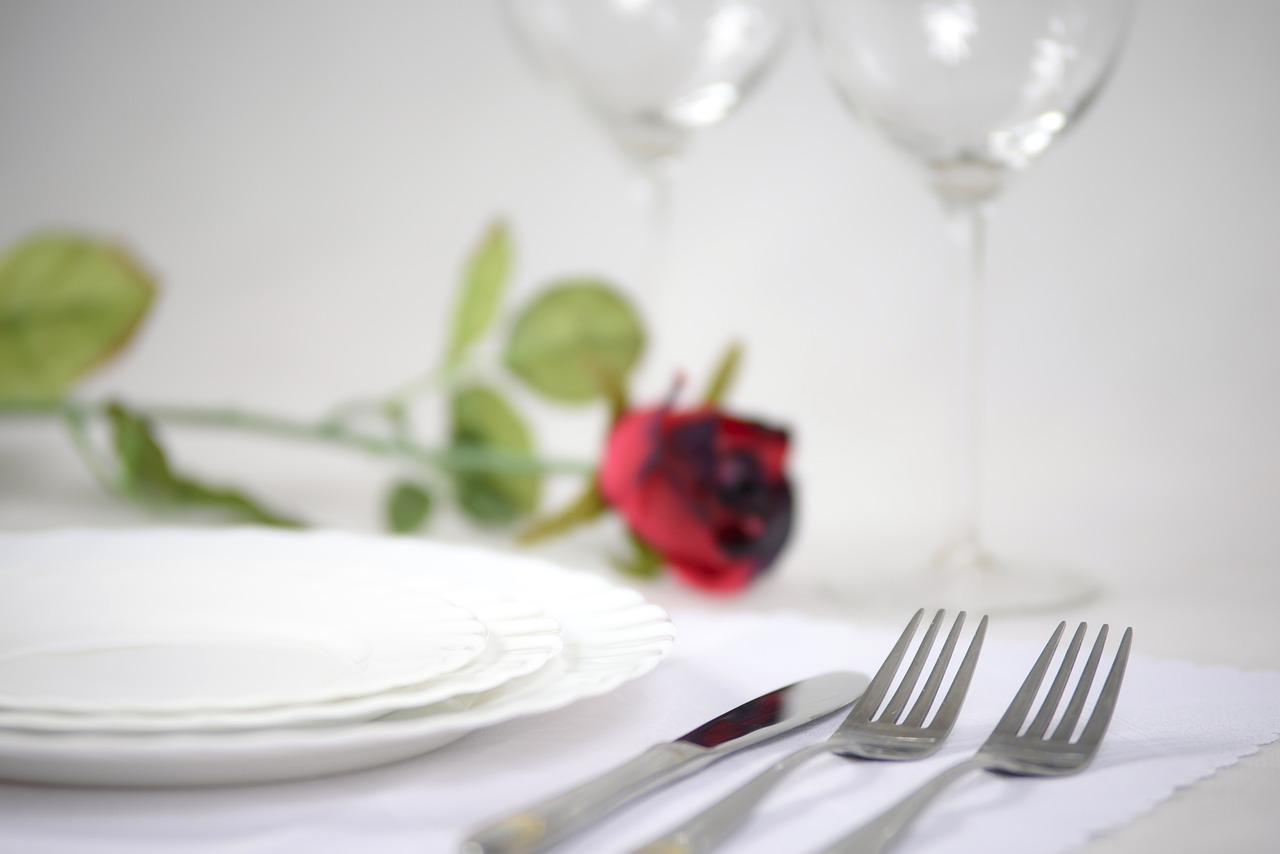knife: (457, 669, 878, 854)
